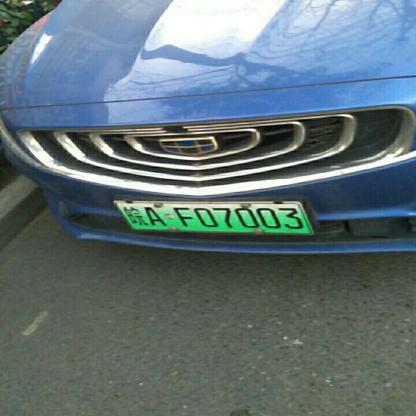lp: (114, 201, 313, 232)
